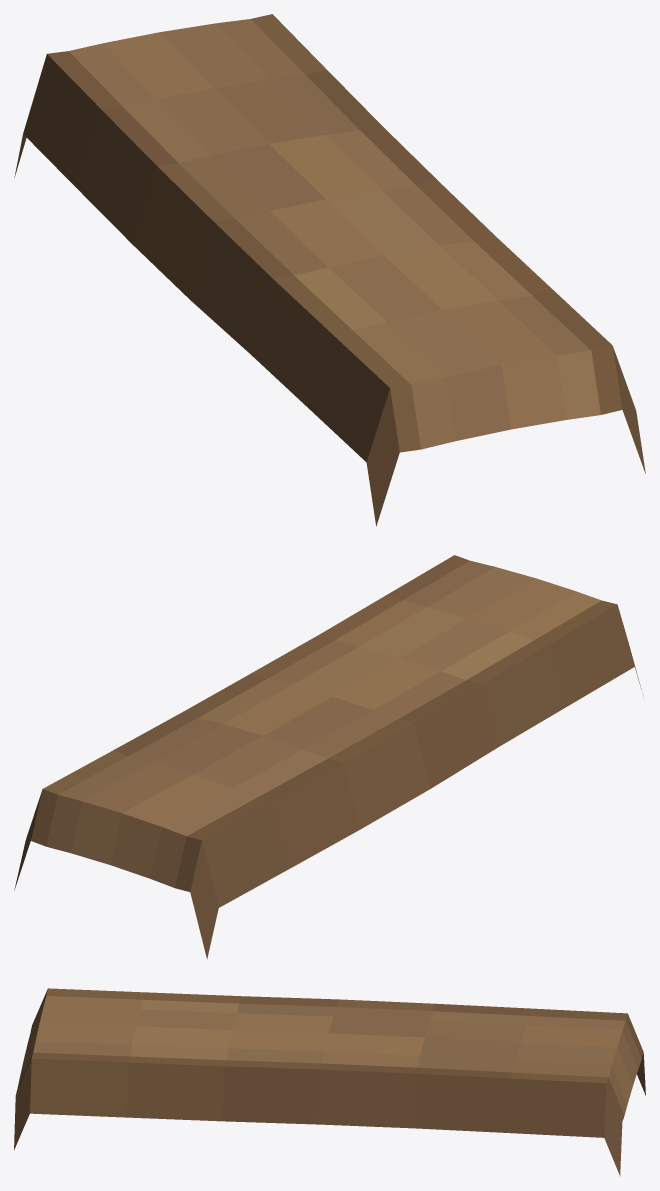
The model's file is road_plot_path_4.glb.
The picture shows the model from 3 angles, top to bottom: view 1: azimuth 30°, elevation 25°; view 2: azimuth 150°, elevation 25°; view 3: azimuth 270°, elevation 25°; orthographic projection. The views are drawn at different scales.
Parts seen in each view (by area): view 1: road_plot_path_4; view 2: road_plot_path_4; view 3: road_plot_path_4.
Boxes of the visible parts, box(x1,y1,x2,y2) form: road_plot_path_4: box(14, 14, 645, 526); road_plot_path_4: box(14, 555, 643, 959); road_plot_path_4: box(14, 988, 645, 1176).
Size of the model in its own units: 8.37 by 3.12 by 19.7.
Materials: 1 (1 with a texture image).
